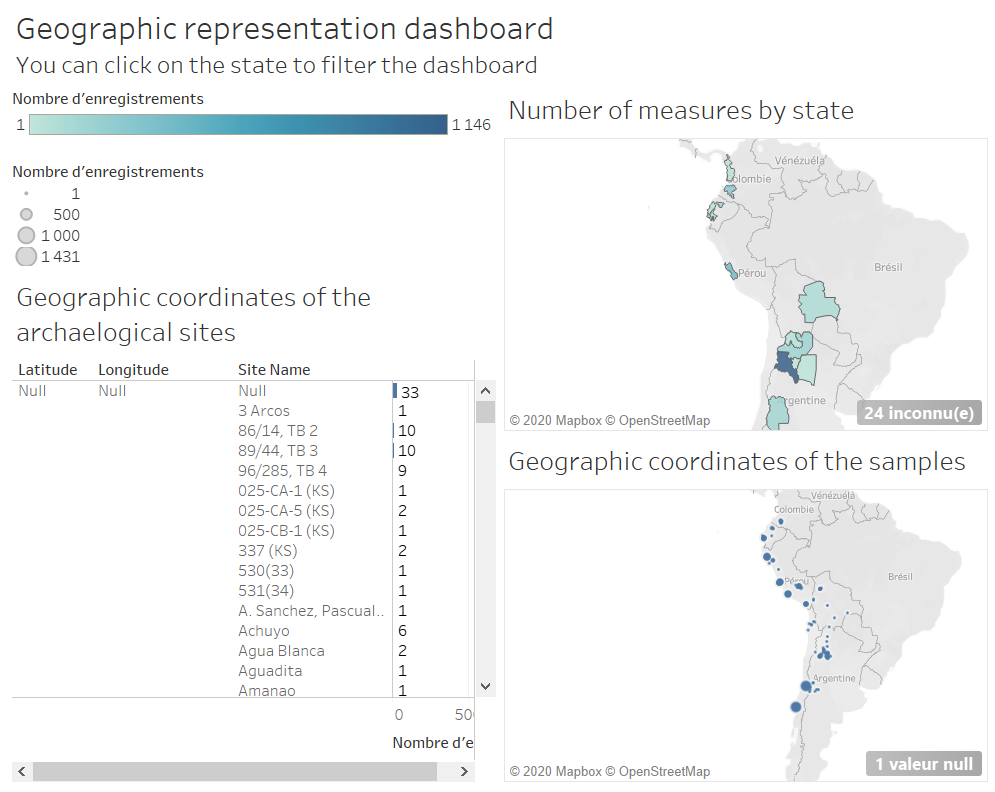

What the dashboard file says about the page in this screenshot:
{"tool":"tableau","page":{"name":"Geographic representation dashboard","canvas":[1000,800],"ordinal":0},"visuals":[{"type":"title","box":[8,8,984,82]},{"type":"legend","title":"Number of measures by state","param":"[federated.1v0wfvu18nt05g1ffm9pc1mxki9i].[sum:Number of Records:qk]","box":[8,90,492,73]},{"type":"worksheet","title":"Number of measures by state","mark":"Multipolygon","box":[500,90,492,351]},{"type":"legend","title":"Geographic coordinates of the samples","param":"[federated.1v0wfvu18nt05g1ffm9pc1mxki9i].[sum:Number of Records:qk]","box":[8,163,492,114]},{"type":"worksheet","title":"Geographic coordinates of the archaelogical sites","mark":"Automatic","rows":["Latitude","Longitude","Site Name"],"cols":["Number of Records"],"box":[8,277,492,515]},{"type":"worksheet","title":"Geographic coordinates of the samples","mark":"Automatic","rows":["Latitude (copie)_511721526320300032"],"cols":["Longitude (copie)_511721526320320513"],"box":[500,441,492,351]}]}

Visuals, with their boxes in screenshot pixels (x1, y1, x2, y2), scaled from the page's 1000x800 canvas onto the 995x792 screenshot:
title: {"x1": 8, "y1": 8, "x2": 987, "y2": 89}
"Number of measures by state" legend: {"x1": 8, "y1": 89, "x2": 498, "y2": 161}
"Number of measures by state" worksheet (Multipolygon marks): {"x1": 498, "y1": 89, "x2": 987, "y2": 437}
"Geographic coordinates of the samples" legend: {"x1": 8, "y1": 161, "x2": 498, "y2": 274}
"Geographic coordinates of the archaelogical sites" worksheet: {"x1": 8, "y1": 274, "x2": 498, "y2": 784}
"Geographic coordinates of the samples" worksheet: {"x1": 498, "y1": 437, "x2": 987, "y2": 784}
